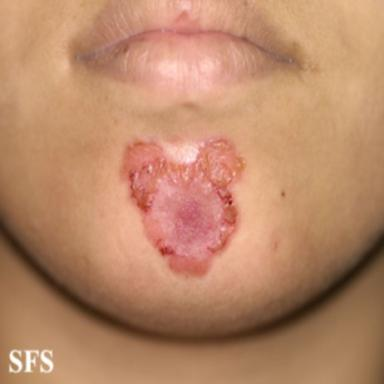Impetigo: (118, 135, 245, 279)
